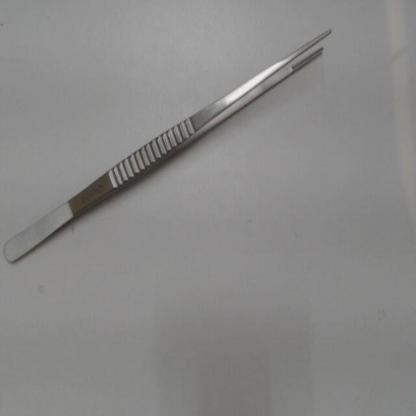DeBakey Dissector: (2, 11, 344, 284)
